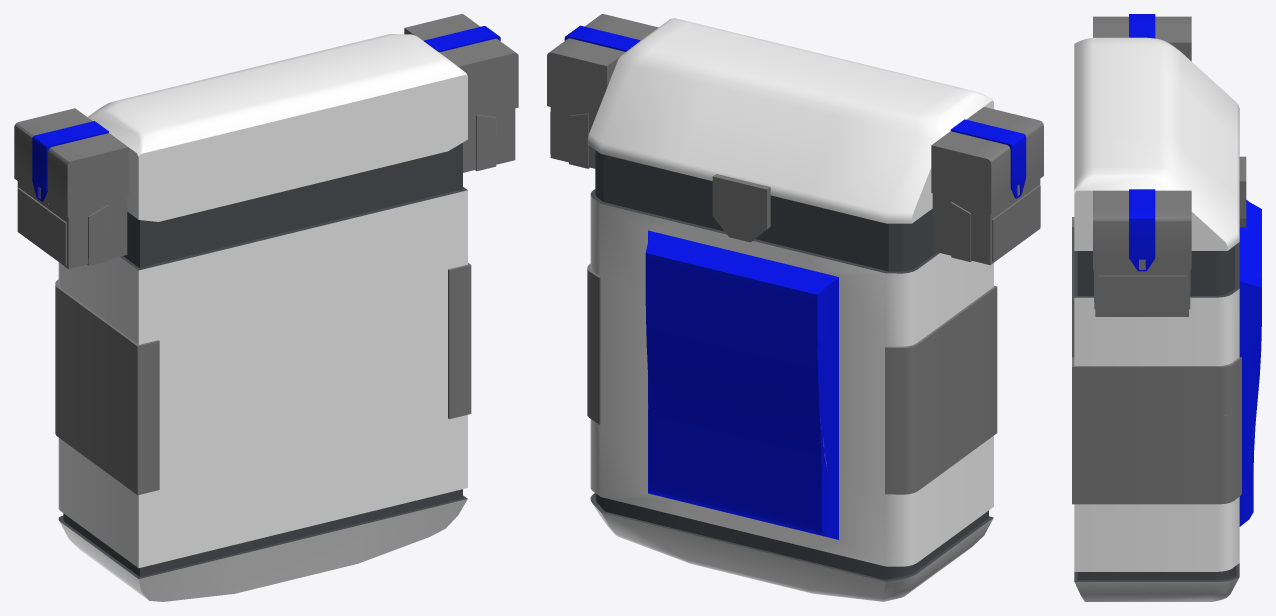
File: Mochila.fbx
3 renders of one model, left to right at view 1: azimuth 30°, elevation 25°; view 2: azimuth 150°, elevation 25°; view 3: azimuth 270°, elevation 25°, orthographic. The views are drawn at different scales.
Parts seen in each view (by area): view 1: Mochila; view 2: Mochila; view 3: Mochila.
Part boxes in pixels (x1,y1,x2,y2): Mochila: (14, 14, 518, 601); Mochila: (547, 14, 1043, 601); Mochila: (1072, 14, 1261, 601).
Size of the model in its own units: 205 by 207 by 80.35.
1 material, 1 textured.
